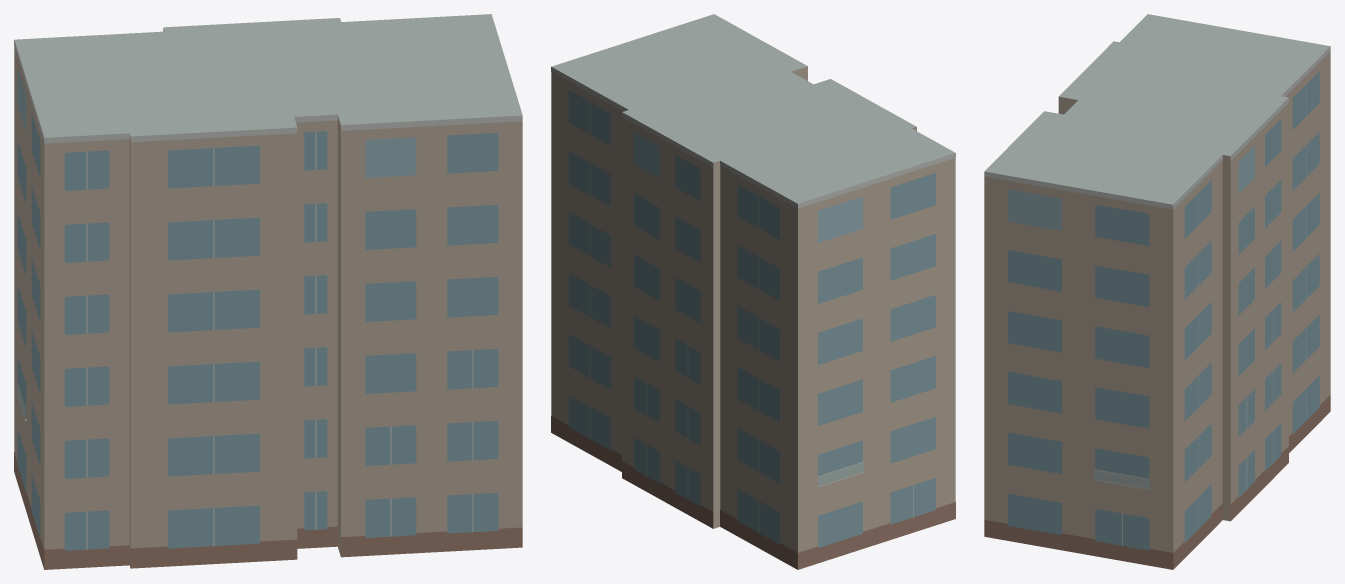
File: survey-upis-32998383.glb
The picture shows the model from 3 angles, left to right: view 1: azimuth 30°, elevation 25°; view 2: azimuth 150°, elevation 25°; view 3: azimuth 270°, elevation 25°; orthographic projection. The views are drawn at different scales.
Parts seen in each view (by area): view 1: survey-upis-32998383.tmp; view 2: survey-upis-32998383.tmp; view 3: survey-upis-32998383.tmp.
Boxes of the visible parts, x1=… form: survey-upis-32998383.tmp: x1=14, y1=14, x2=522, y2=569; survey-upis-32998383.tmp: x1=551, y1=14, x2=955, y2=569; survey-upis-32998383.tmp: x1=984, y1=14, x2=1330, y2=569.
Bounding box in the file's own units: 20.51 × 18.3 × 15.74.
